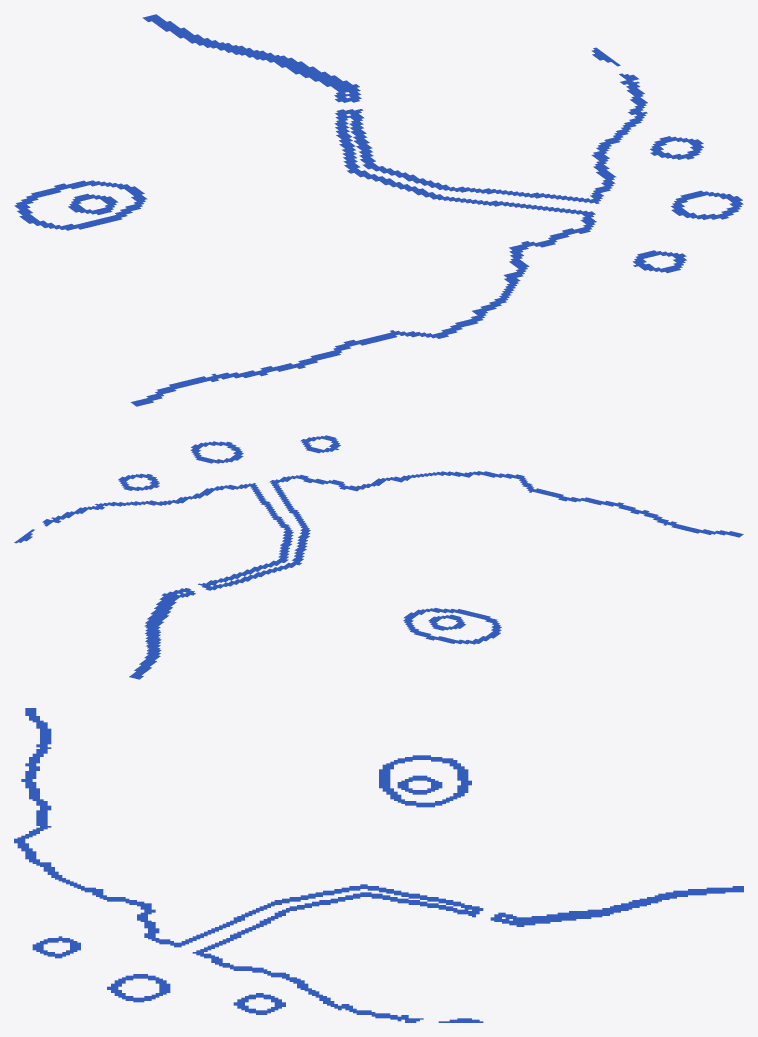
Rendered from Map-2-PlaceForWaterObjects.fbx.
3 views of the same model, one above another, from view 1: azimuth 30°, elevation 25°; view 2: azimuth 150°, elevation 25°; view 3: azimuth 270°, elevation 25° (orthographic). The views are drawn at different scales.
Visible parts, largest first — view 1: Map-2-PlaceForWaterObjects; view 2: Map-2-PlaceForWaterObjects; view 3: Map-2-PlaceForWaterObjects.
Part boxes in pixels (x1,y1,x2,y2): Map-2-PlaceForWaterObjects: [14, 14, 743, 406]; Map-2-PlaceForWaterObjects: [14, 435, 743, 679]; Map-2-PlaceForWaterObjects: [14, 708, 743, 1022].
Bounding box in the file's own units: 200 × 0 × 196.
